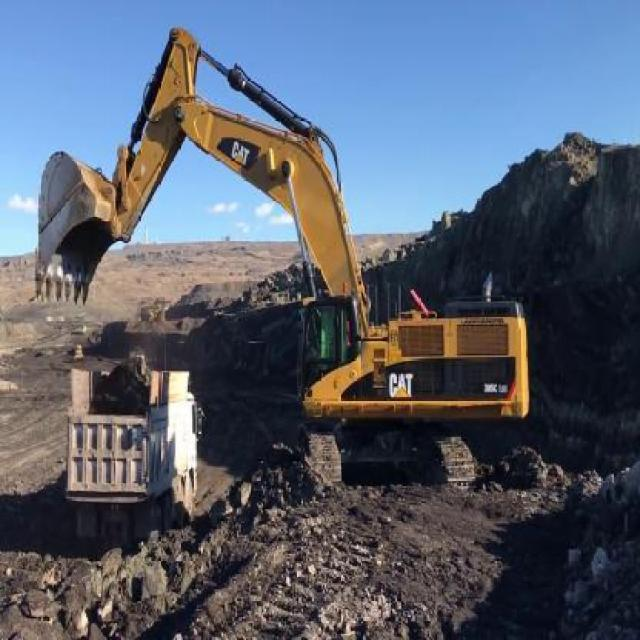Dump Truck: (60, 359, 203, 536)
Excavator: (32, 21, 528, 496)
